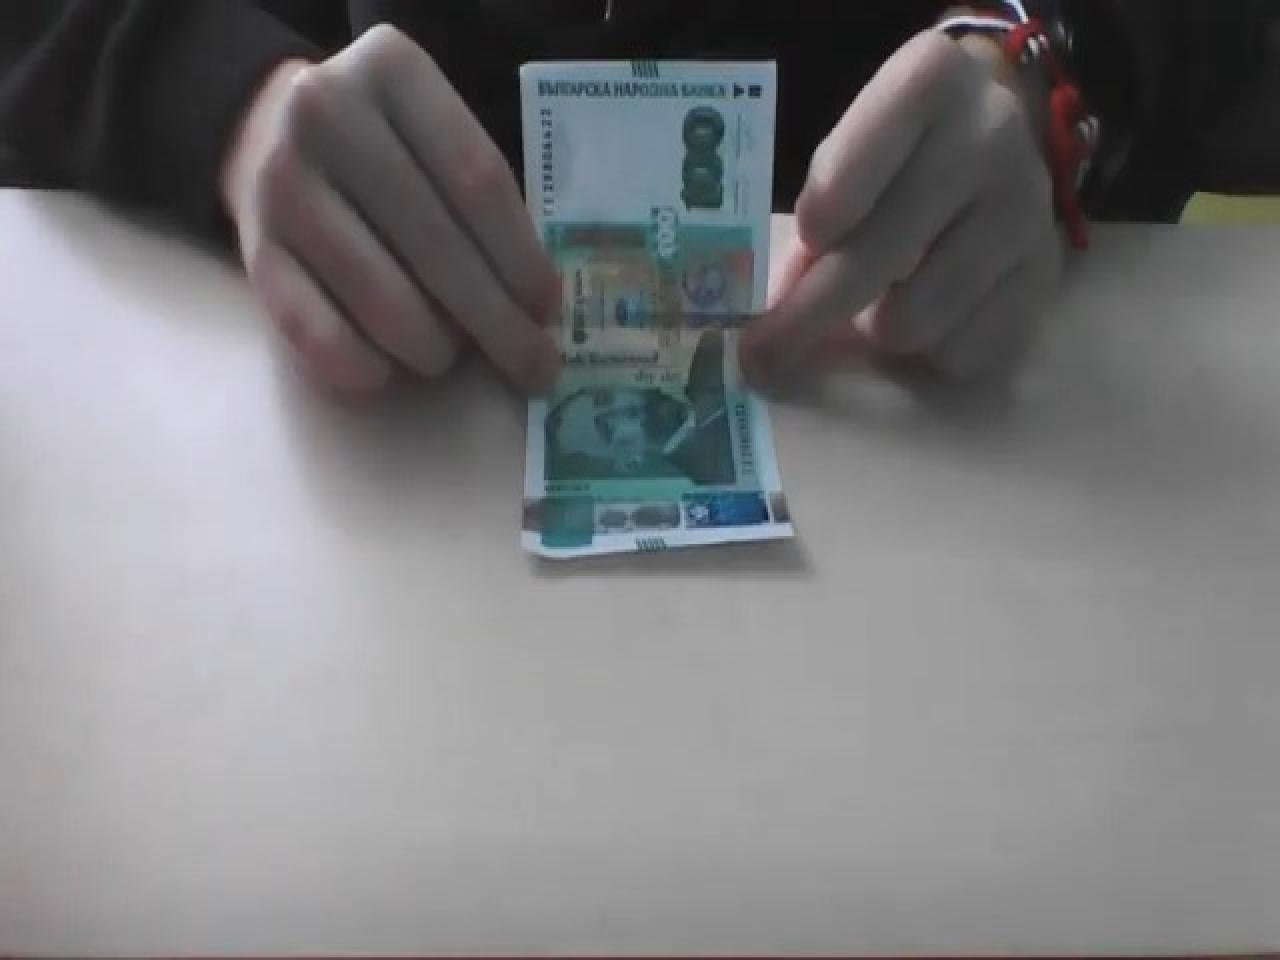100leva: (516, 58, 796, 568)
